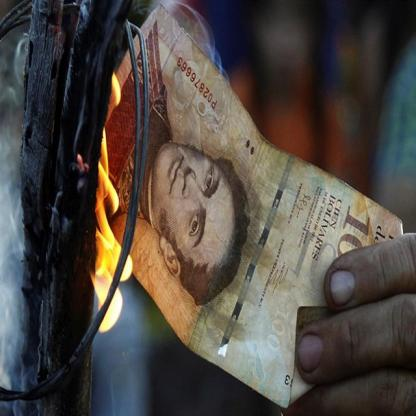billete: (102, 2, 404, 407)
